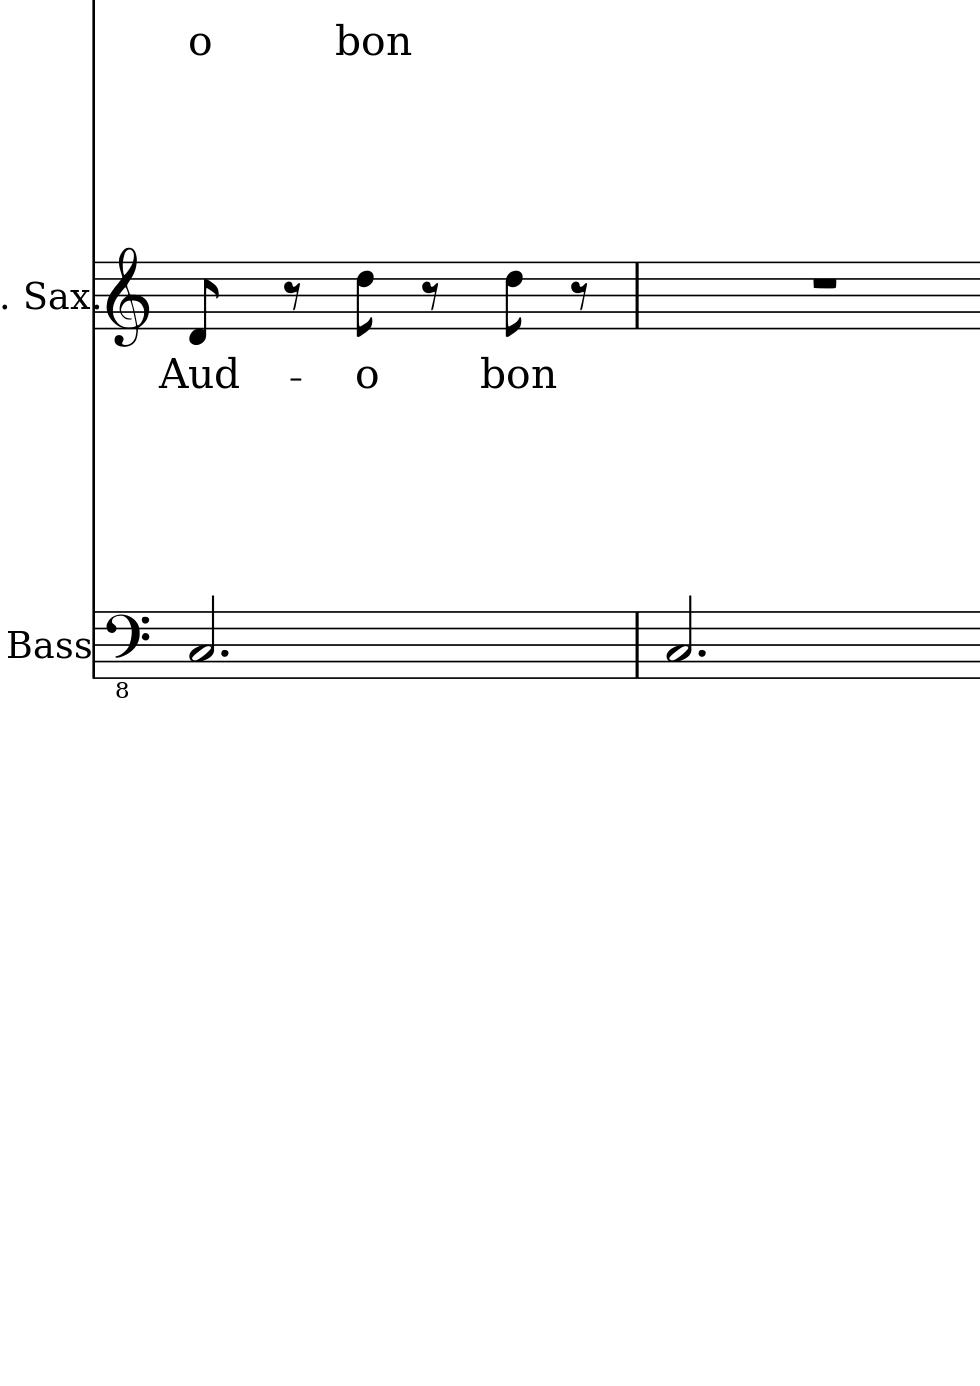2_3: (188, 594, 216, 680), (665, 595, 693, 681)
8_-1: (187, 259, 218, 347)
8_6: (501, 259, 524, 339), (354, 260, 375, 340)
Bass: (4, 626, 91, 662)
Gclef: (105, 245, 151, 348)
Lower_Fclef: (103, 610, 150, 701)
Rests1: (807, 273, 841, 294)
Rests8: (567, 279, 594, 312), (418, 279, 442, 313), (280, 279, 302, 311)
Sax: (22, 275, 90, 315)
Single_barline: (628, 612, 645, 678), (88, 262, 103, 331), (629, 262, 644, 329), (88, 612, 101, 678)
dot: (695, 647, 707, 659), (218, 646, 229, 659)
